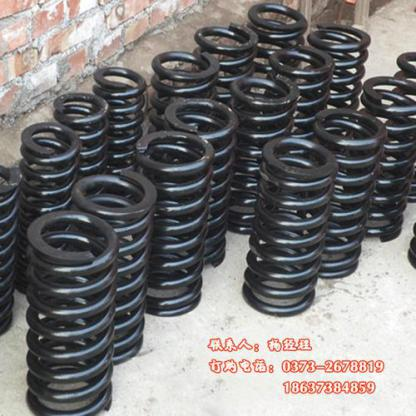FOD: (17, 211, 119, 415), (237, 136, 340, 317), (134, 126, 214, 318)
